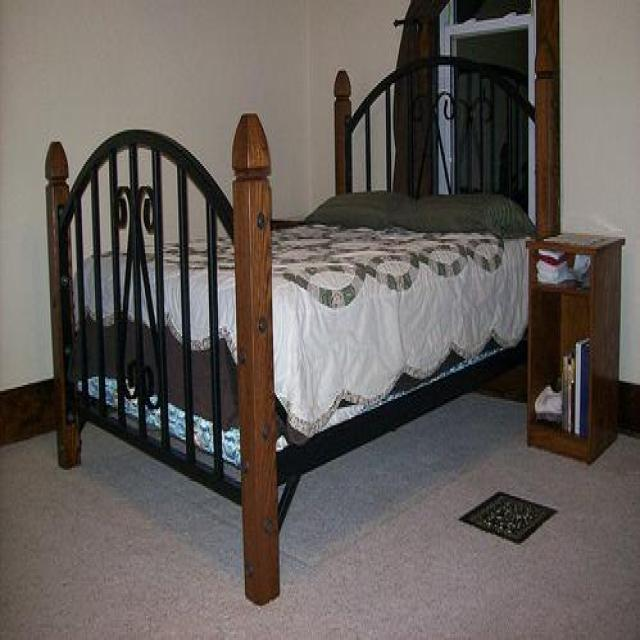bed: (45, 40, 558, 604)
